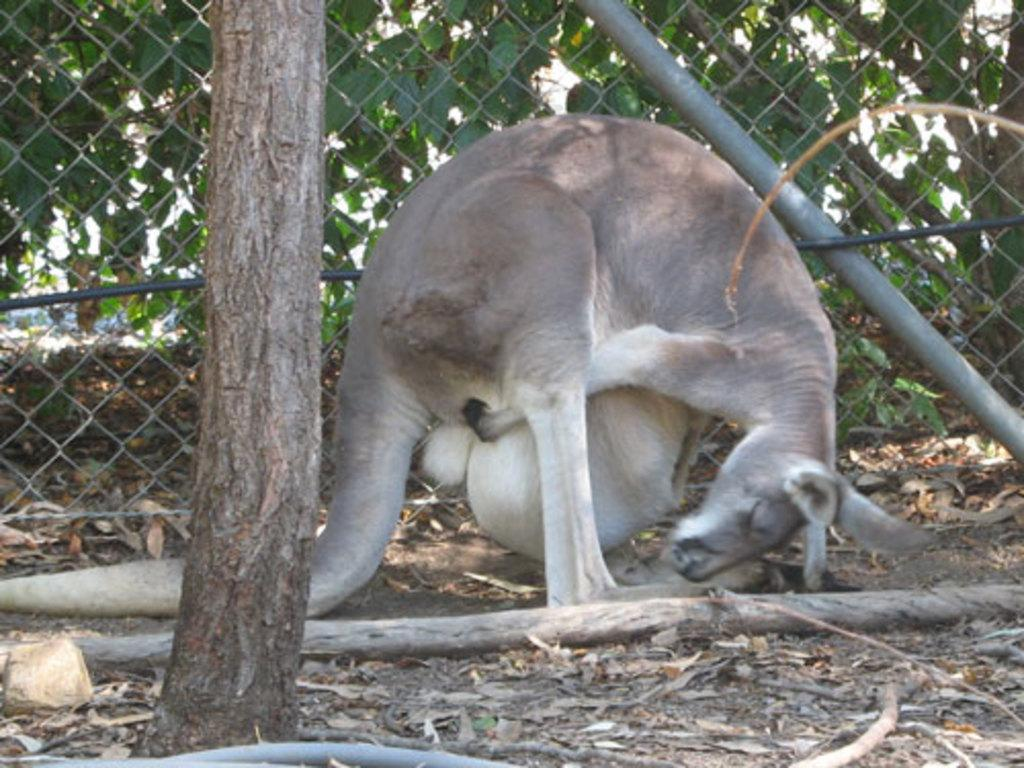kangaroo: (0, 110, 934, 612), (0, 112, 932, 608)
